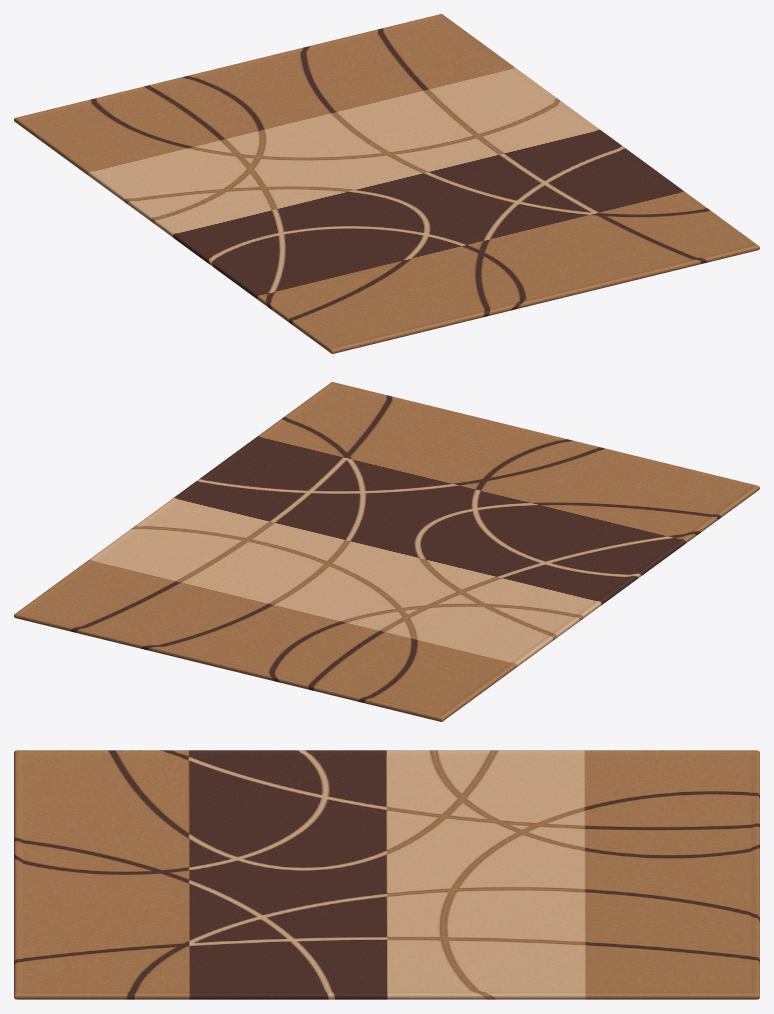
The picture shows the model from 3 angles, top to bottom: view 1: azimuth 30°, elevation 25°; view 2: azimuth 150°, elevation 25°; view 3: azimuth 270°, elevation 25°; orthographic projection. The views are drawn at different scales.
Visible parts, largest first — view 1: Carpet_11_0001_0001; view 2: Carpet_11_0001_0001; view 3: Carpet_11_0001_0001.
Boxes of the visible parts, box(x1,y1,x2,y2) form: Carpet_11_0001_0001: box(14, 14, 759, 353); Carpet_11_0001_0001: box(14, 382, 759, 721); Carpet_11_0001_0001: box(14, 750, 759, 999).
Bounding box in the file's own units: 1.4 × 0.015 × 1.8.
Materials: 1 (1 with a texture image).
